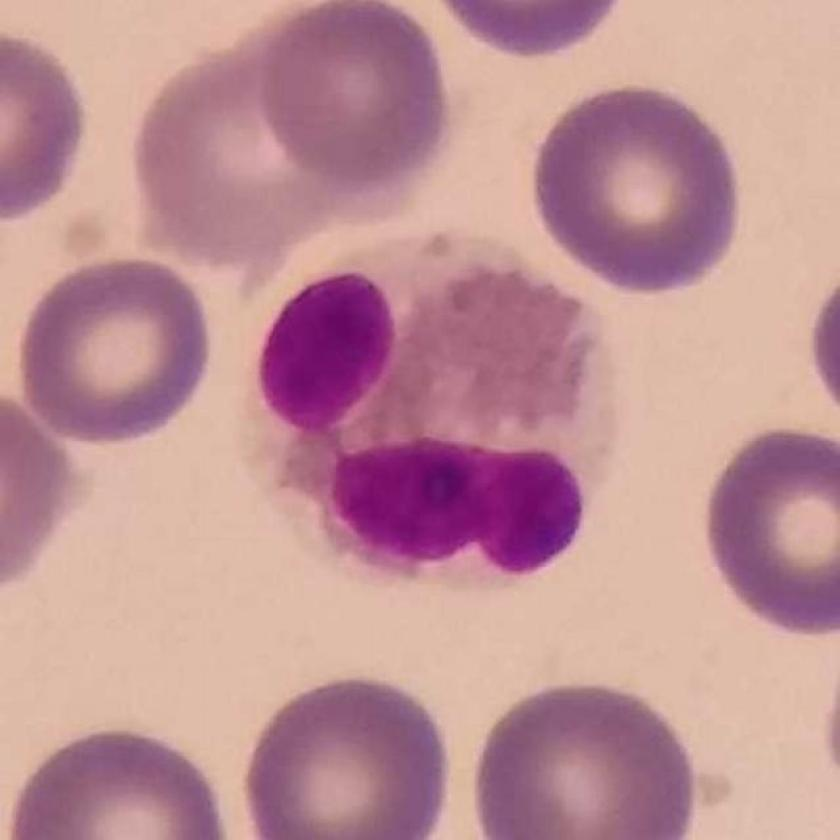eosinophil: (240, 227, 626, 601)
